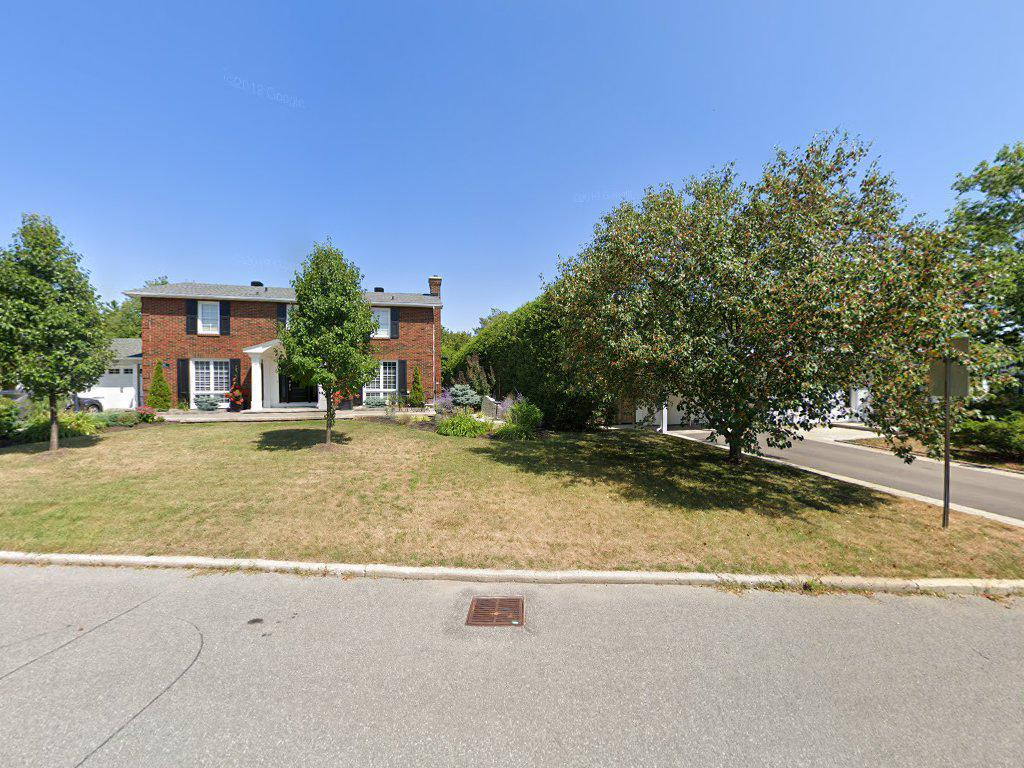trunk: (44, 394, 68, 456), (318, 387, 342, 449)
